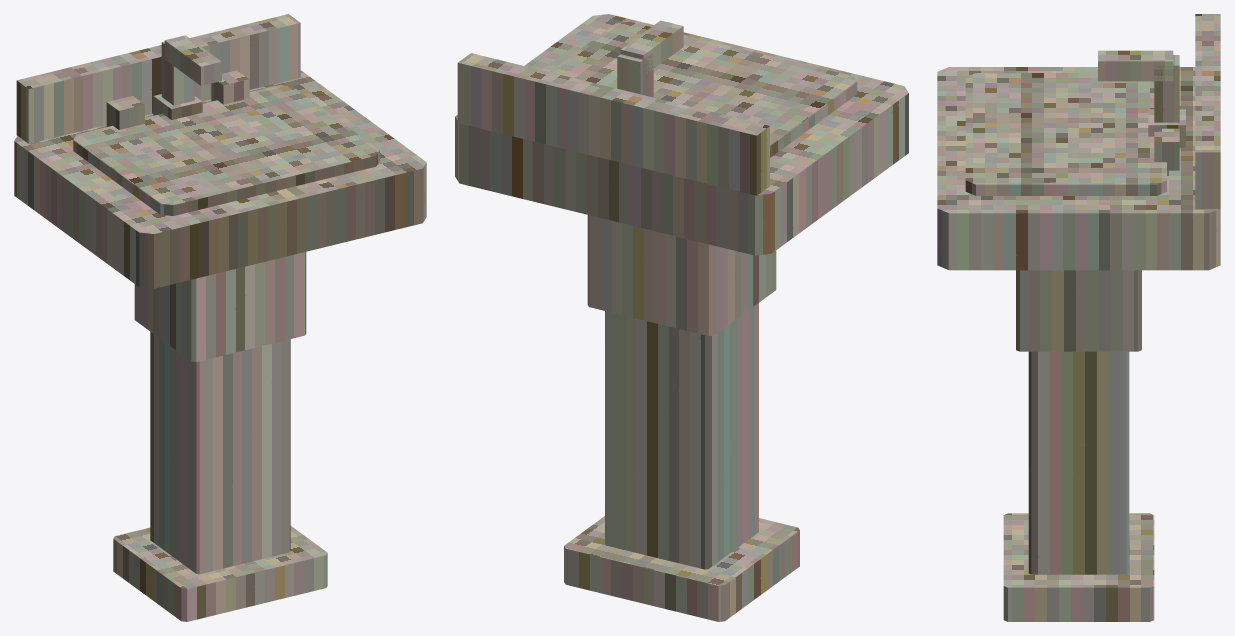
Rendered from Sink.glb.
The picture shows the model from 3 angles, left to right: view 1: azimuth 30°, elevation 25°; view 2: azimuth 150°, elevation 25°; view 3: azimuth 270°, elevation 25°; orthographic projection. The views are drawn at different scales.
Visible parts, largest first — view 1: Sink; view 2: Sink; view 3: Sink.
Part boxes in pixels (left/top/right/bottom): Sink: left=14, top=14, right=426, bottom=621; Sink: left=455, top=14, right=908, bottom=621; Sink: left=937, top=14, right=1220, bottom=621.
Size of the model in its own units: 0.55 by 0.9275 by 0.45.
Materials: 1 (1 with a texture image).
